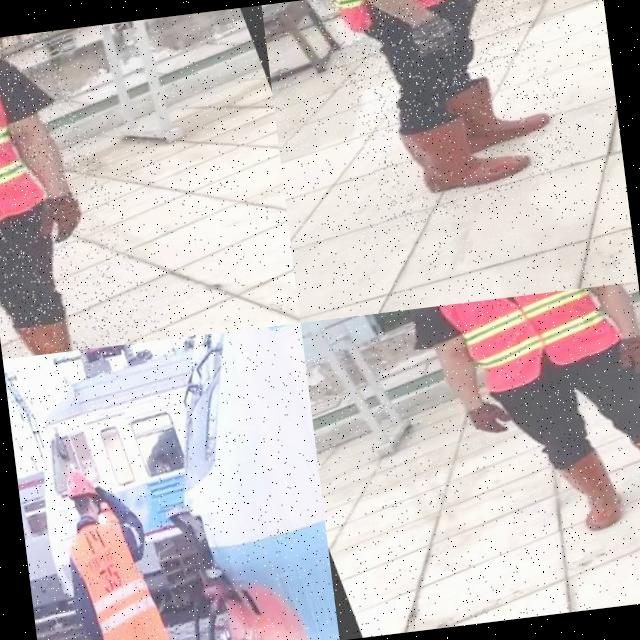boots: (383, 86, 538, 216), (434, 56, 556, 160), (548, 437, 632, 539), (10, 300, 110, 357), (629, 423, 640, 517)
helmet: (55, 460, 101, 506)
vest: (427, 284, 628, 405), (58, 504, 178, 640), (0, 44, 49, 254), (289, 0, 482, 45)
